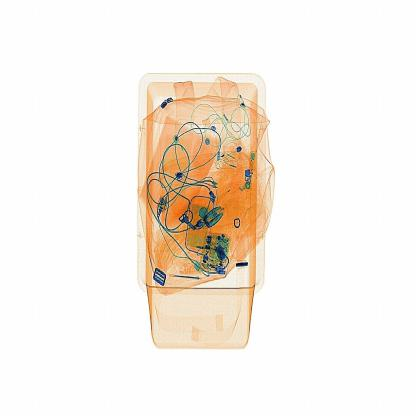wrench: (166, 267, 205, 285)
